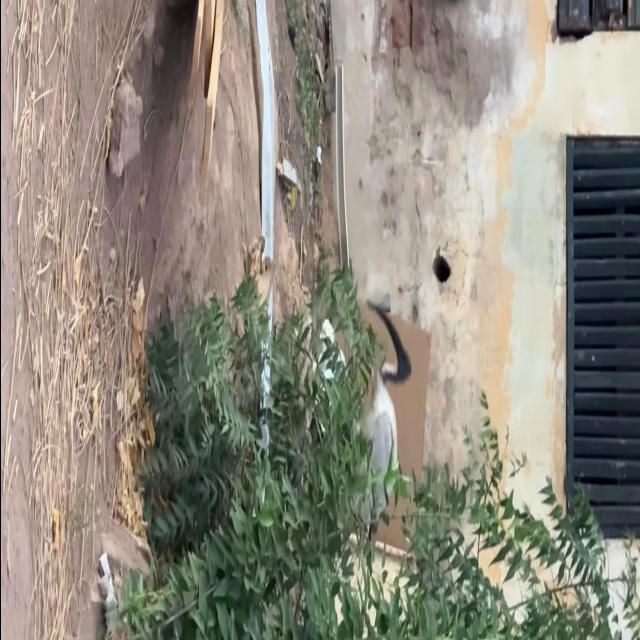Birds-Ibis: (343, 298, 415, 537)
